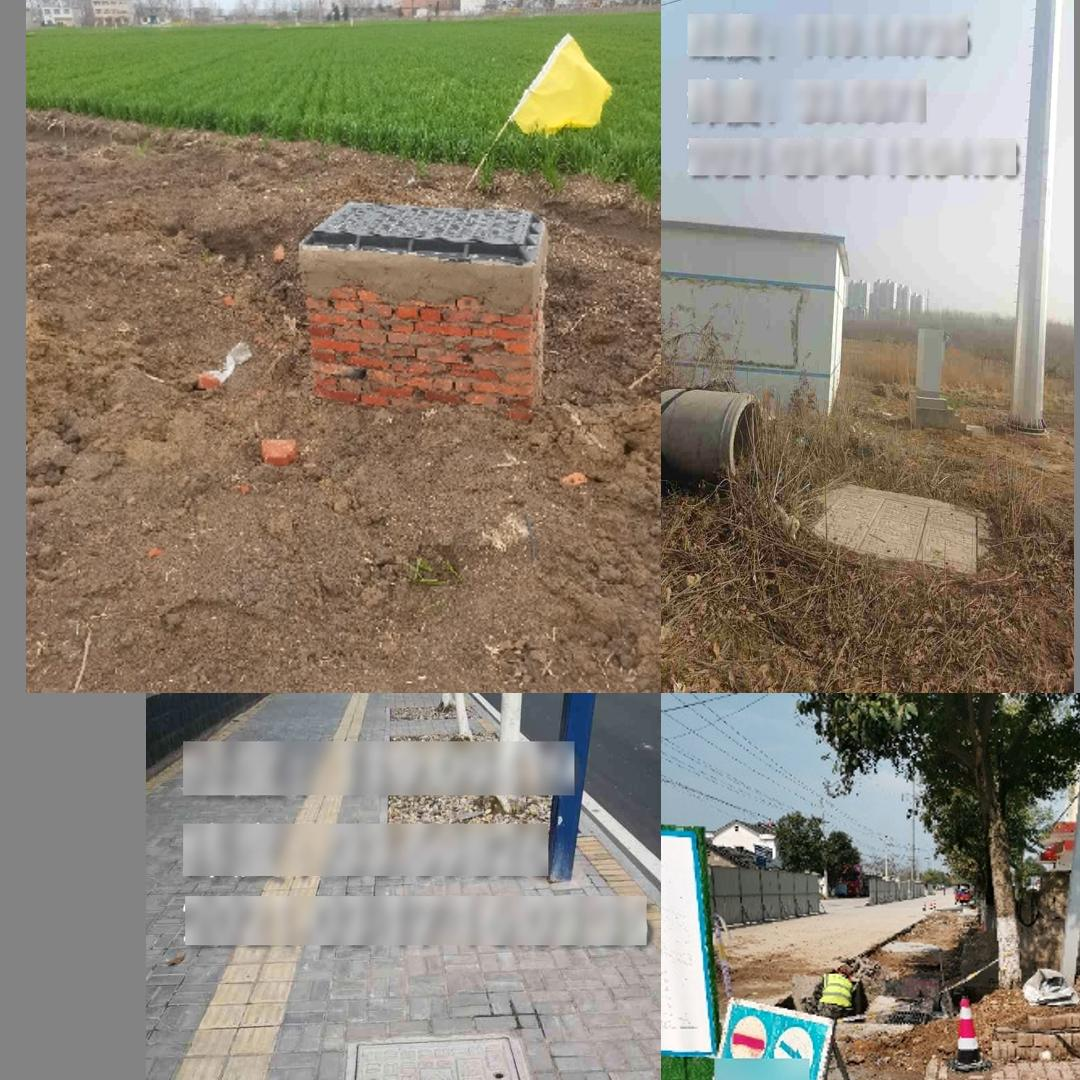good: (809, 482, 983, 580), (297, 193, 543, 257), (326, 1030, 582, 1080)
